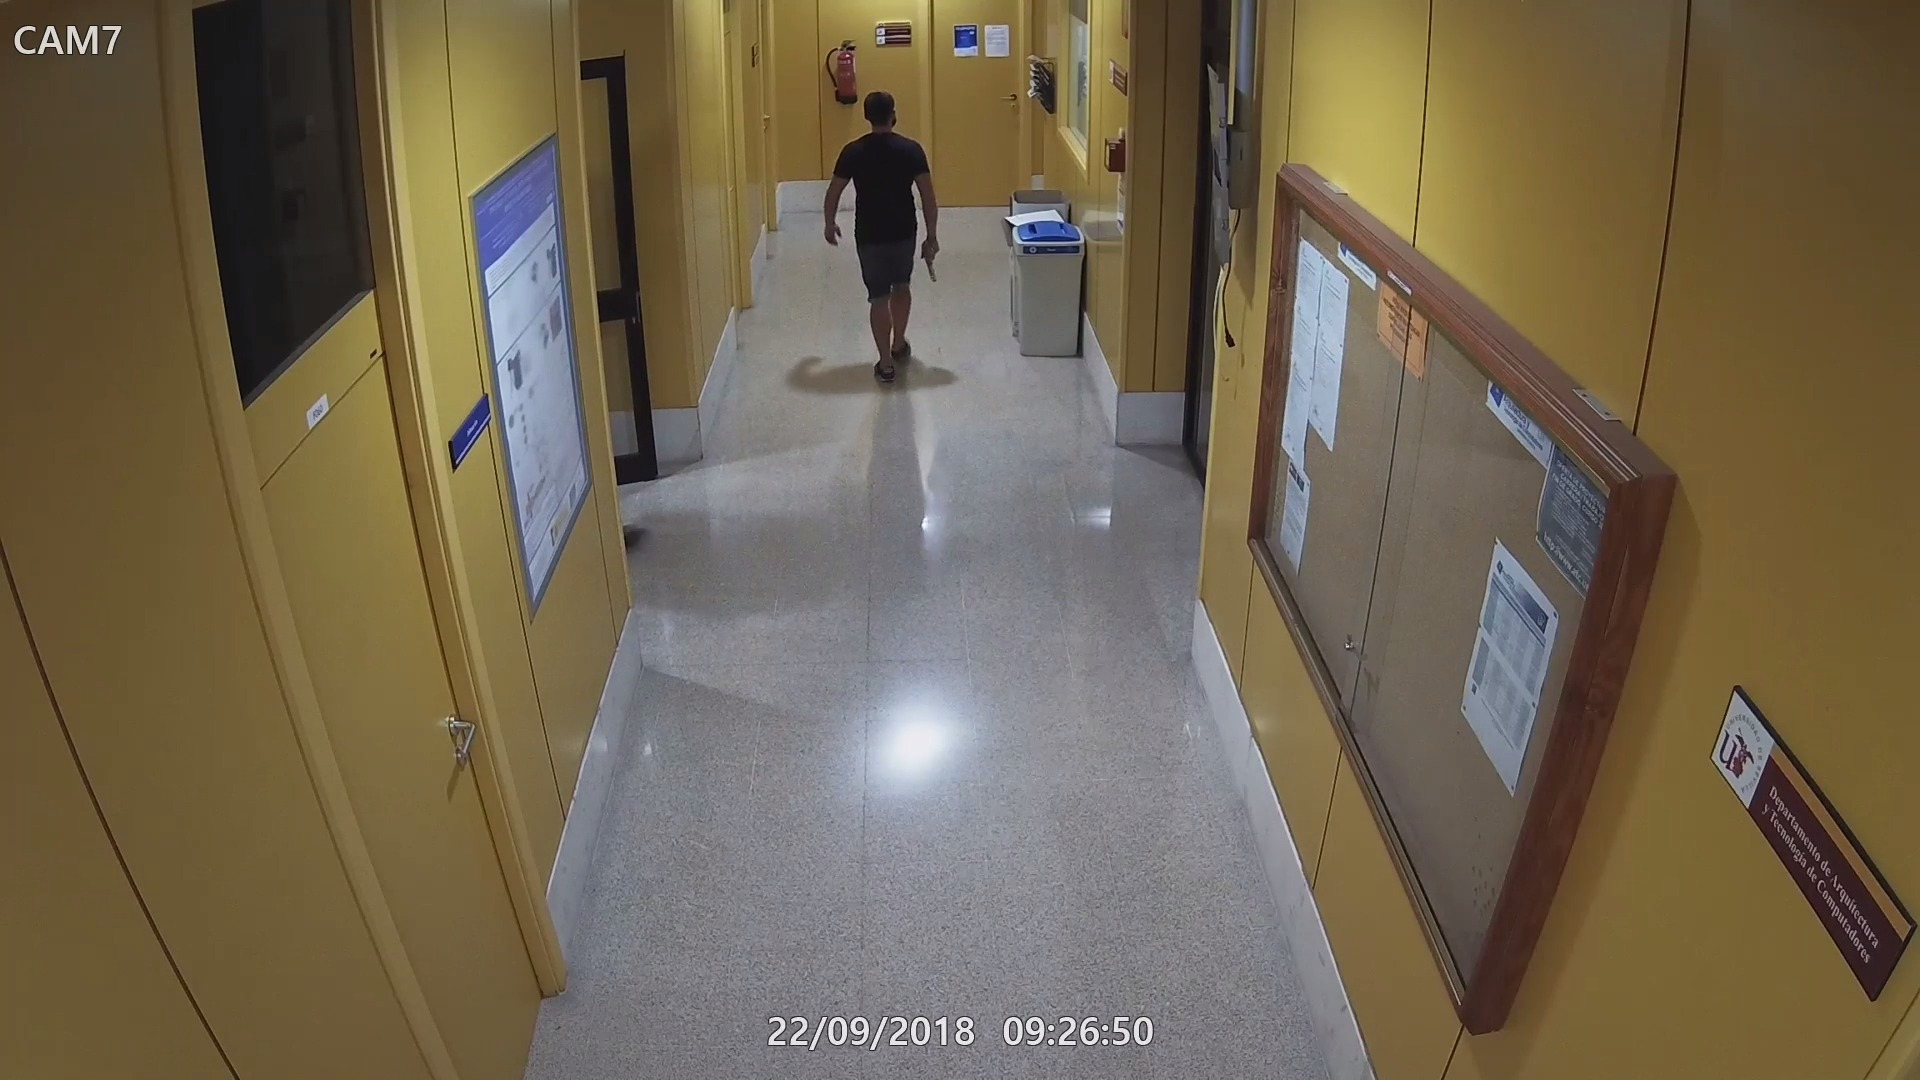Handgun: (916, 236, 945, 282)
